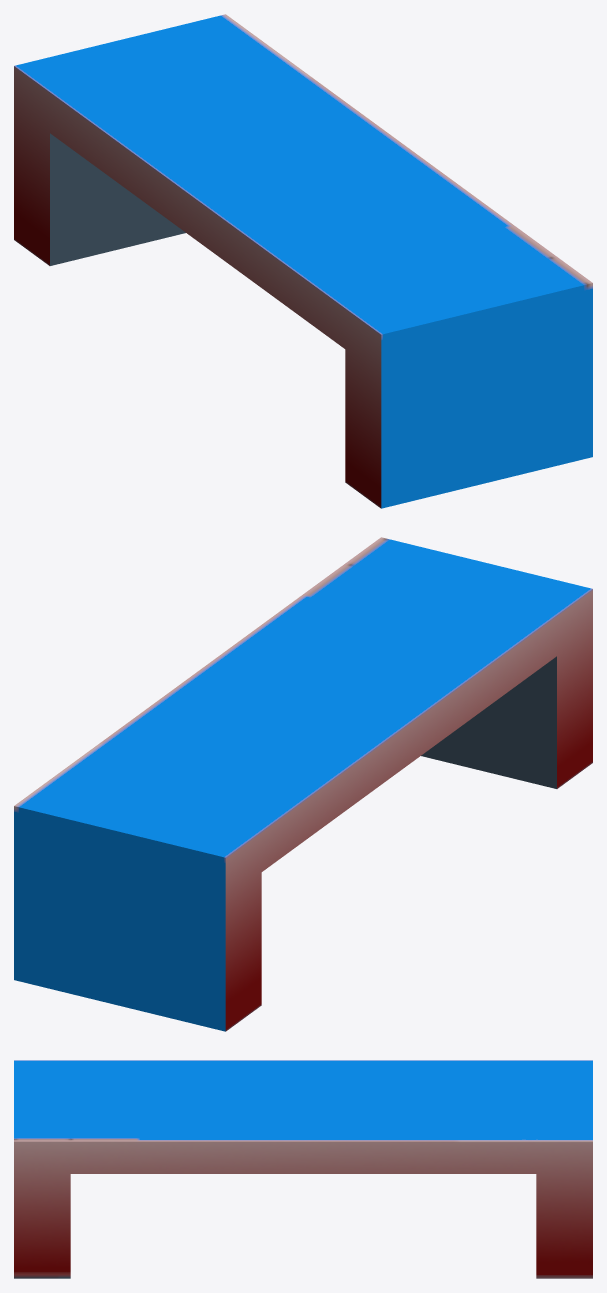
The model's file is bench.fbx.
3 views of the same model, one above another, from view 1: azimuth 30°, elevation 25°; view 2: azimuth 150°, elevation 25°; view 3: azimuth 270°, elevation 25° (orthographic). The views are drawn at different scales.
Visible parts, largest first — view 1: Cube; view 2: Cube; view 3: Cube.
Boxes of the visible parts, <box> form: Cube: <box>14,14,592,508</box>; Cube: <box>14,537,592,1031</box>; Cube: <box>14,1060,592,1278</box>.
Bounding box in the file's own units: 200 × 157 × 601.
